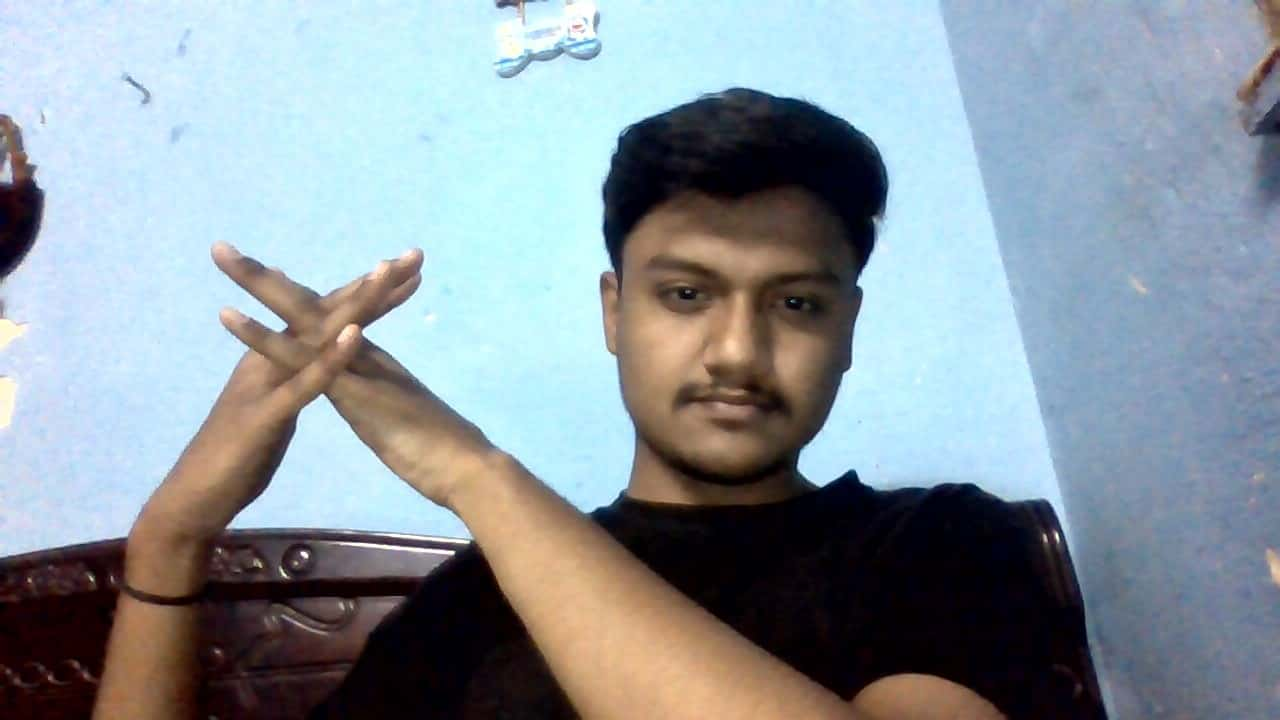hand: (201, 231, 498, 502), (153, 245, 434, 521)
